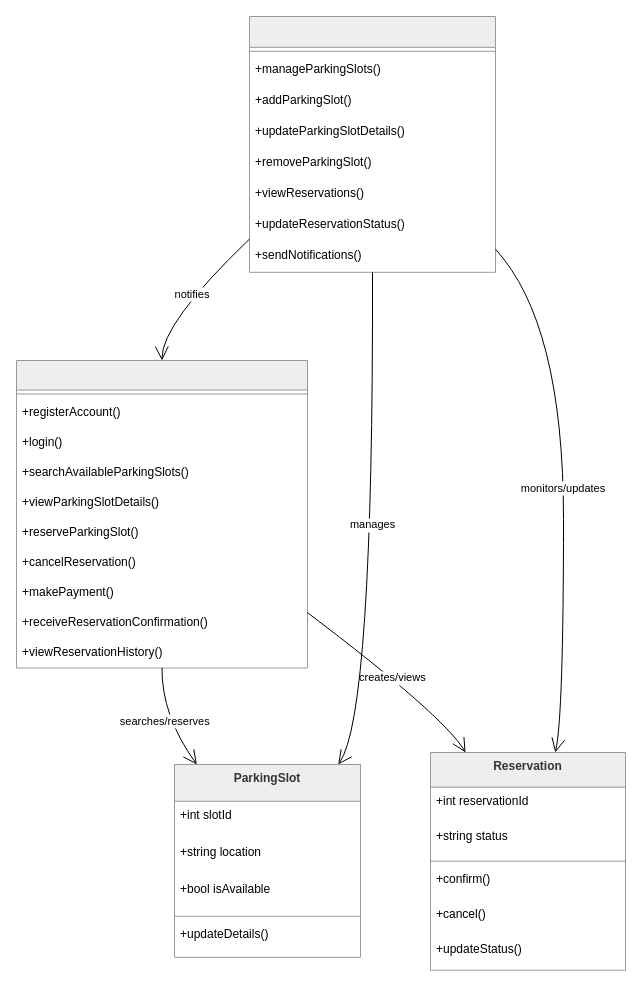
Some shapes in this 642 by 987 pixel diagram are drawn without their labels. Each missing label, with the box of its shape:
Admin: (248, 16, 496, 272)
User: (16, 360, 308, 668)
